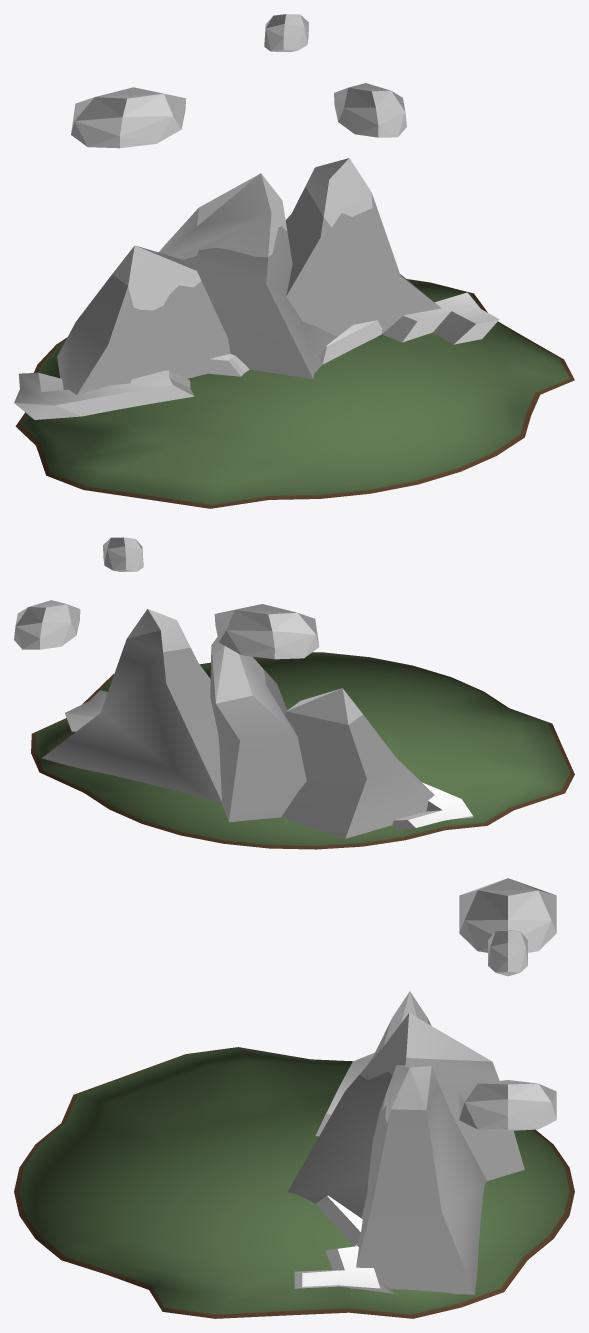
The picture shows the model from 3 angles, top to bottom: view 1: azimuth 30°, elevation 25°; view 2: azimuth 150°, elevation 25°; view 3: azimuth 270°, elevation 25°; orthographic projection. The views are drawn at different scales.
Parts seen in each view (by area): view 1: Sphere001; view 2: Sphere001; view 3: Sphere001.
Part boxes in pixels (bbox=[...]): Sphere001: bbox=[14, 14, 574, 508]; Sphere001: bbox=[14, 537, 574, 849]; Sphere001: bbox=[14, 878, 574, 1318].
Size of the model in its own units: 206 by 110 by 179.
